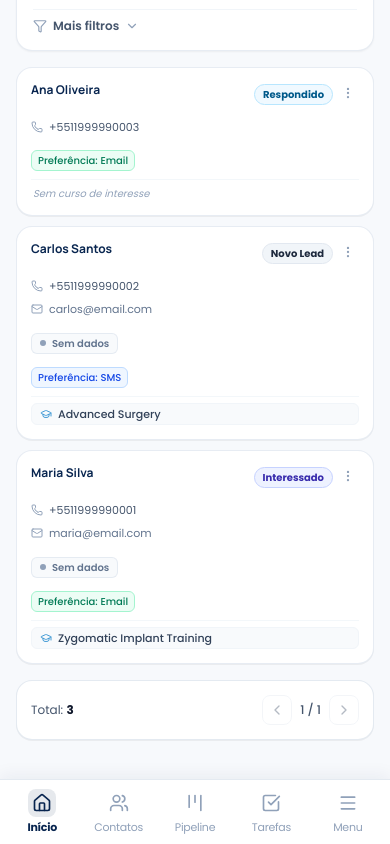
Test case: EDS HUB — Campaign Delete, Real Lead Picker & Safe Lead Delete Suite › Part 3: Safe Lead Deletion from Contacts & Lead Profile › 13. Clicking "Excluir lead" in Contacts shows confirmation modal with lead details
(page scrolled)
expect the heading "Maria Silva" is shown: met, box [31,464,94,481]
Click the button with test id "lead-actions-menu-lead-1": x=348, y=476 [337,465,359,487]
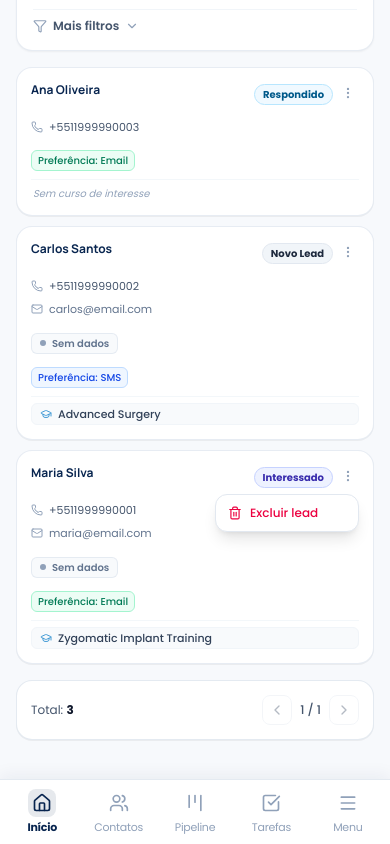
Click the button with test id "delete-lead-menu-lead-1": x=287, y=513 [216,499,358,527]
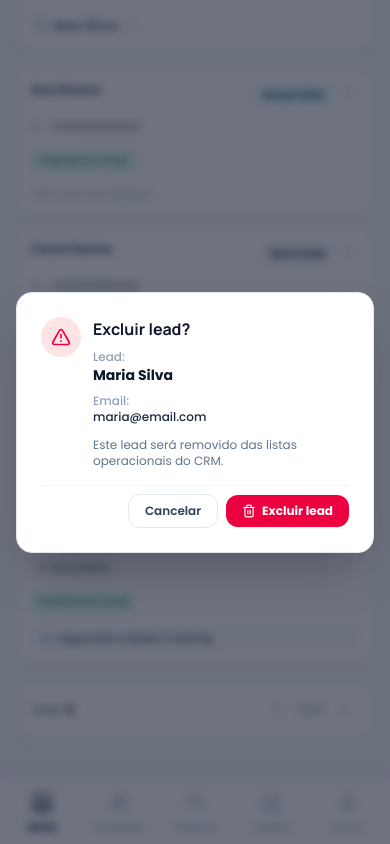
expect the heading "Excluir lead?" is shown: met, box [93,318,190,340]
expect the text "Este lead será removido das listas operacionais do CRM." is shown: met, box [93,436,297,468]
expect the button with test id "confirm-delete-lead-button" is shown: met, box [226,494,349,526]
